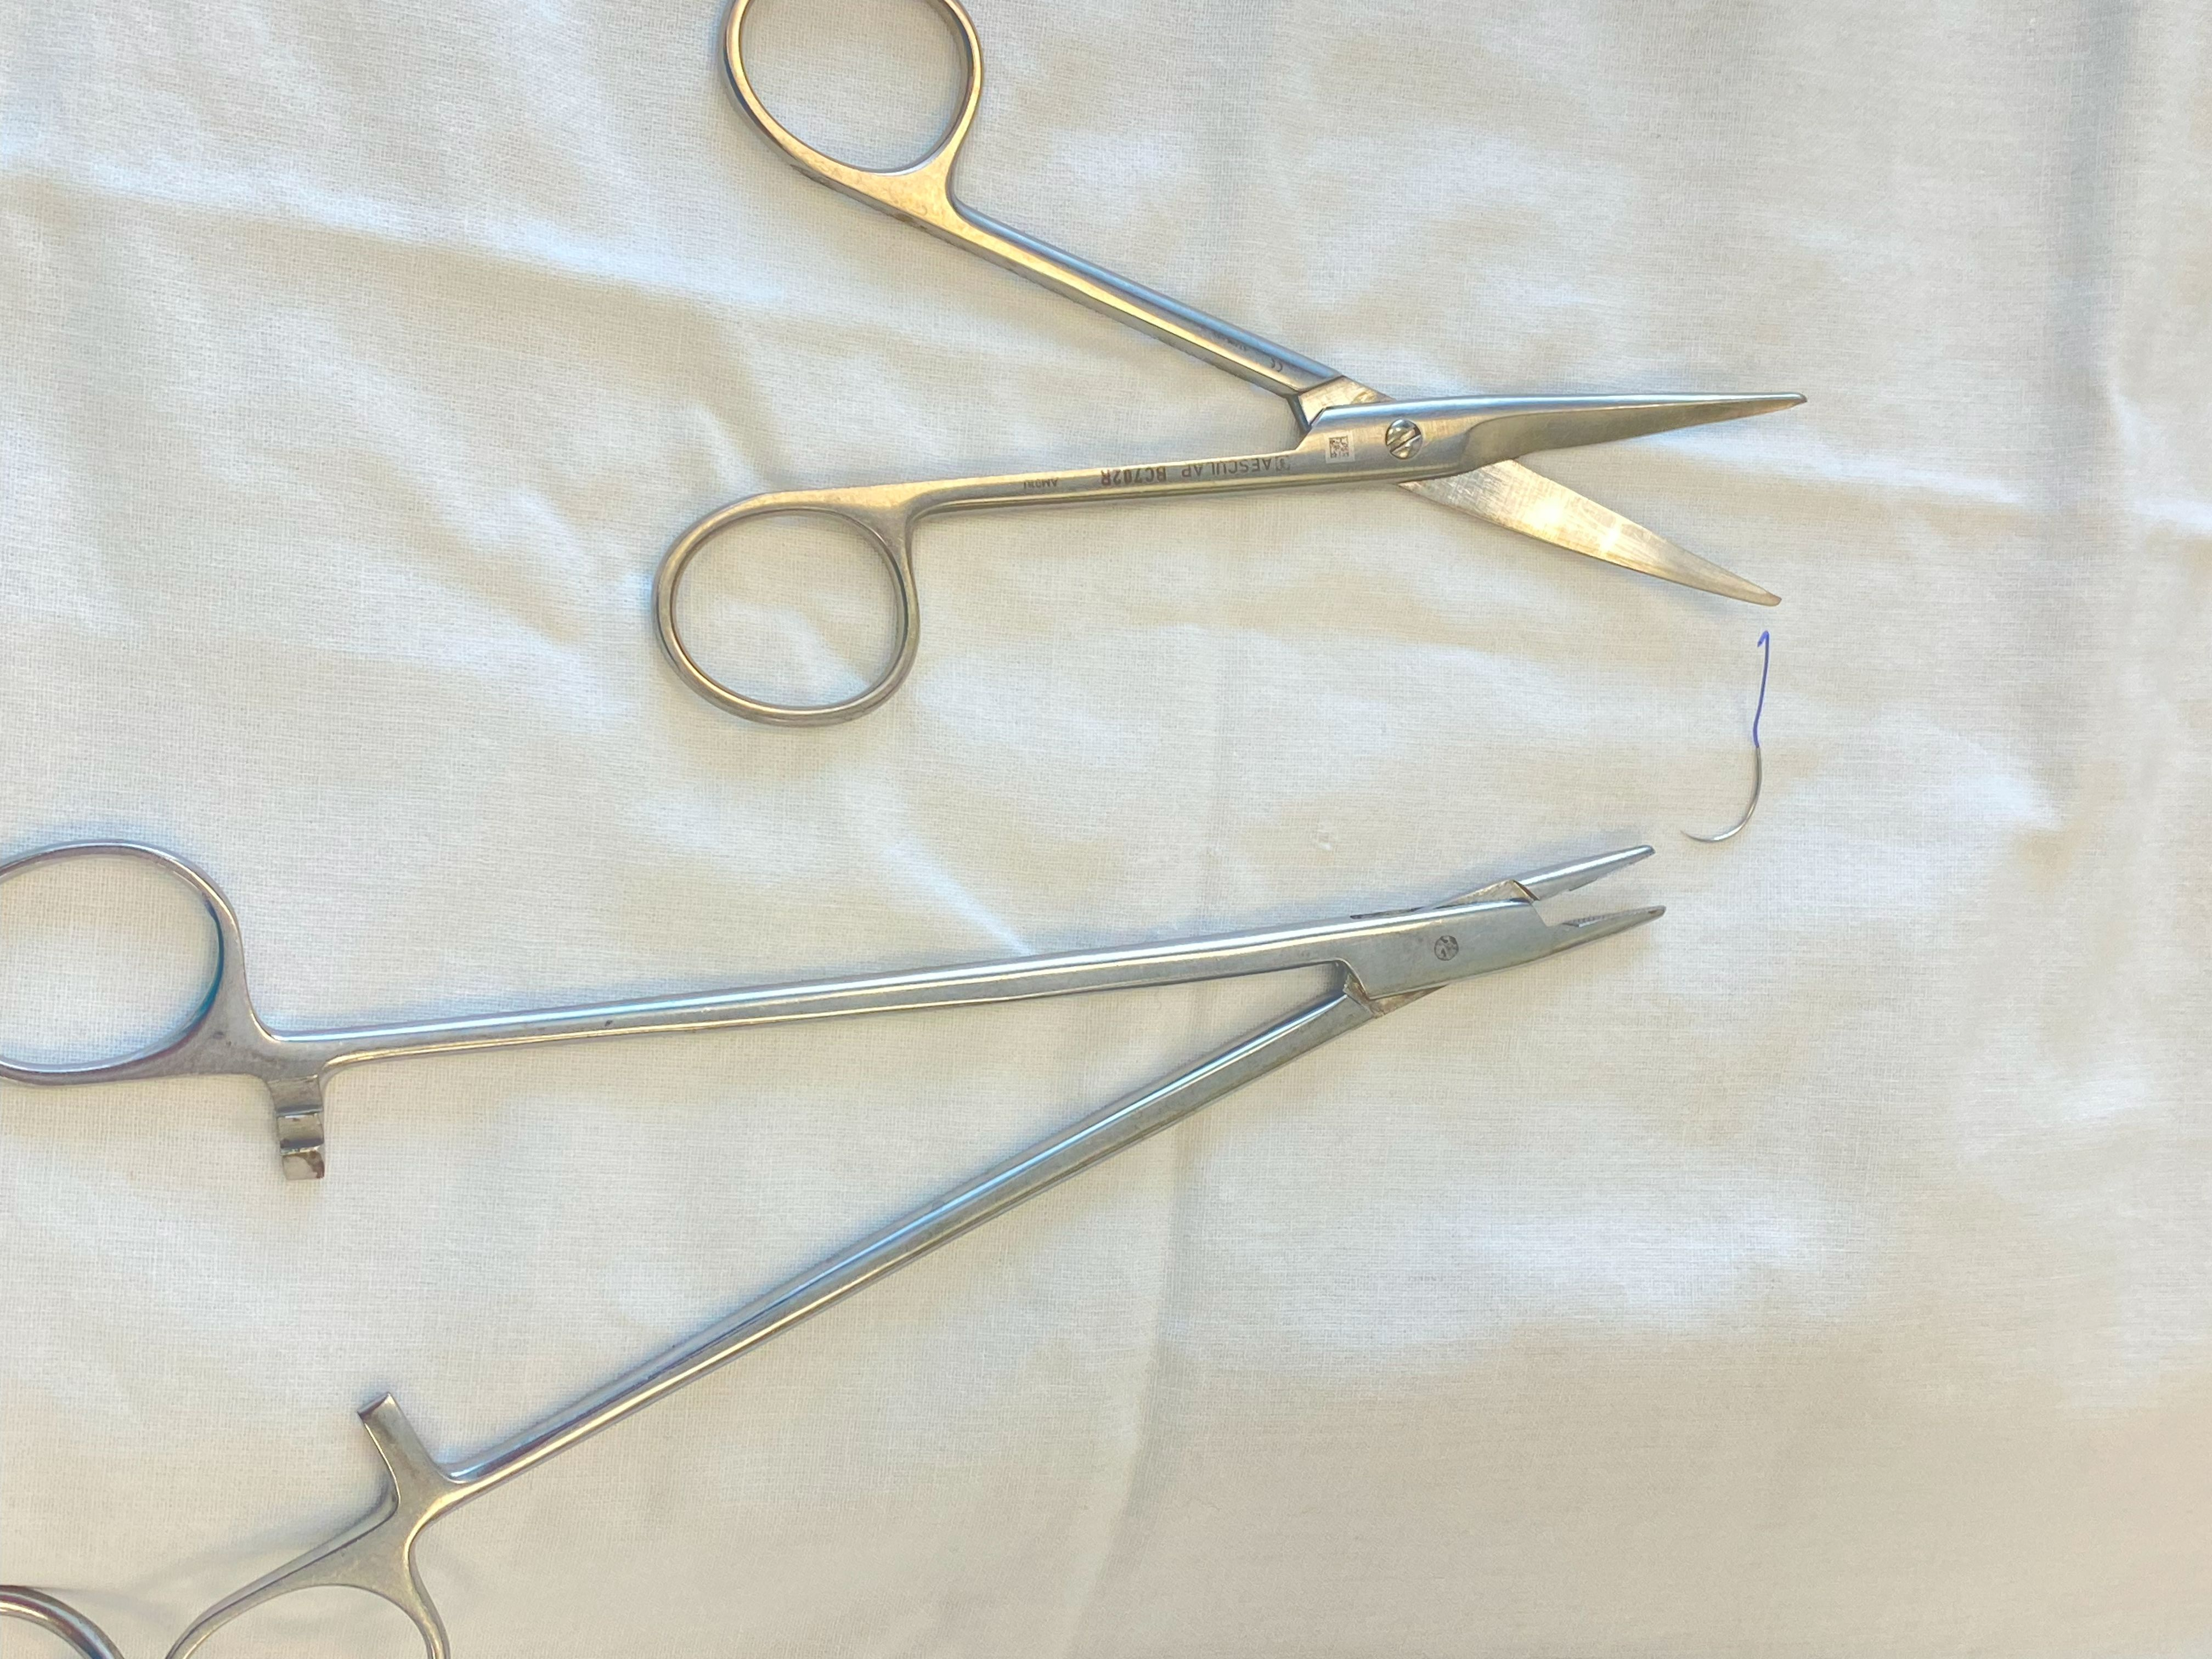scissors: (653, 0, 1803, 725)
tweezers: (0, 843, 1663, 1659)
